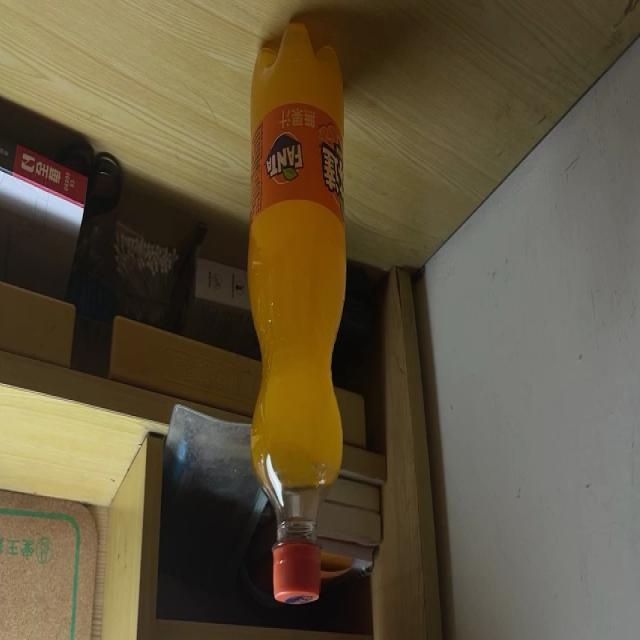Fanta: (247, 22, 348, 606)
